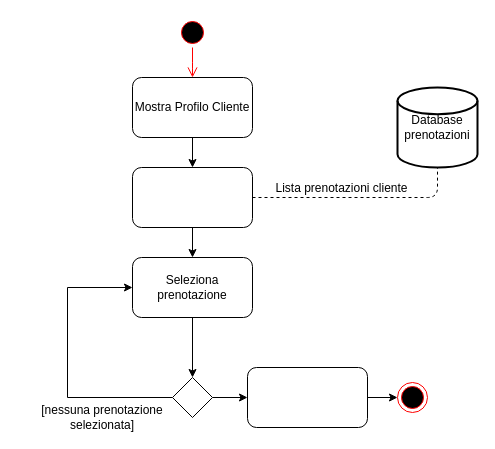
Some shapes in this 495 by 449 pixel diagram are drawn without their labels. Each missing label, with the box of its shape:
Mostra dettagli prenotazione: (246, 366, 368, 428)
Mostra Prenotazioni: (132, 166, 252, 228)
